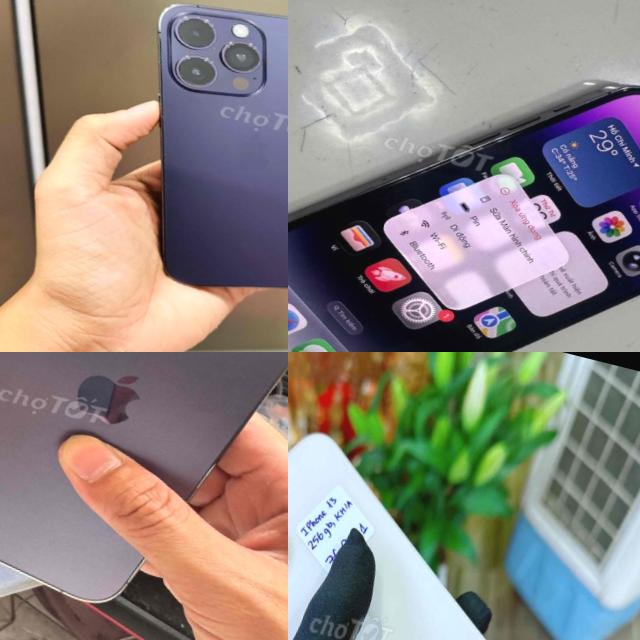gen_12_13: (288, 407, 589, 640)
gen_14: (288, 0, 640, 352), (0, 352, 288, 639), (89, 0, 288, 327)
